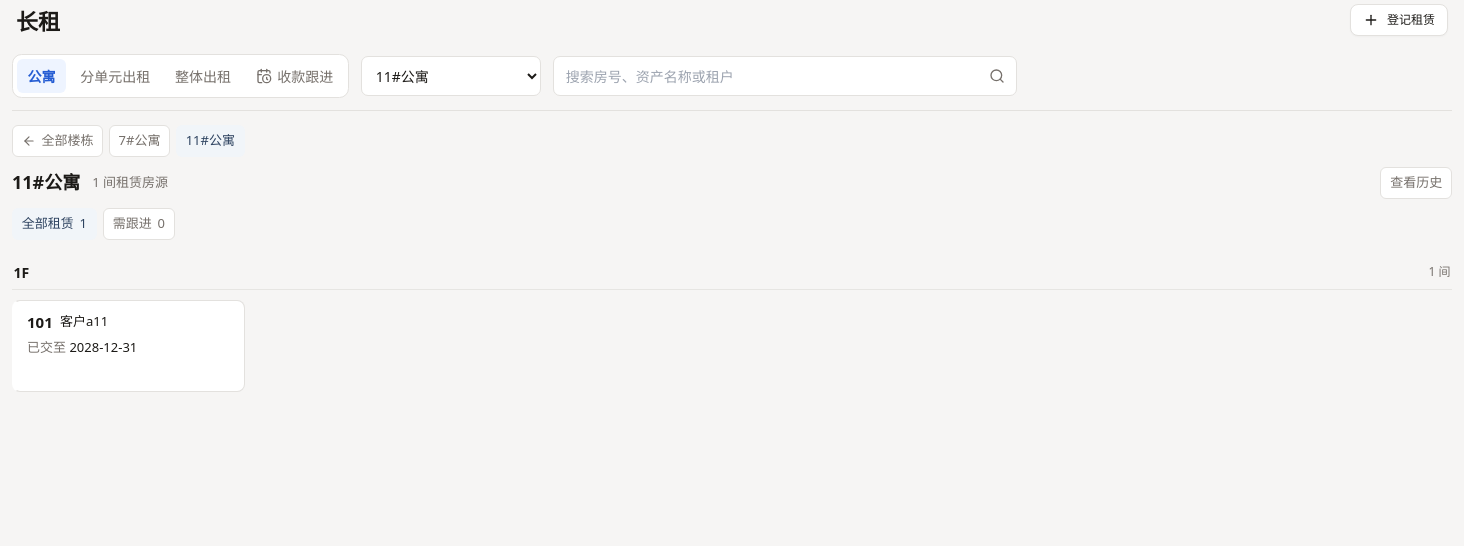
combines apartment location with shared browsing and remembers the selected building
Expected: the dropdown named "选择项目或楼栋" shows "11#公寓", [361, 56, 541, 96]
Expected: the number of search fields is 1, [554, 57, 978, 95]
Click the button "全部楼栋". click: (58, 141)
box: [12, 125, 103, 157]
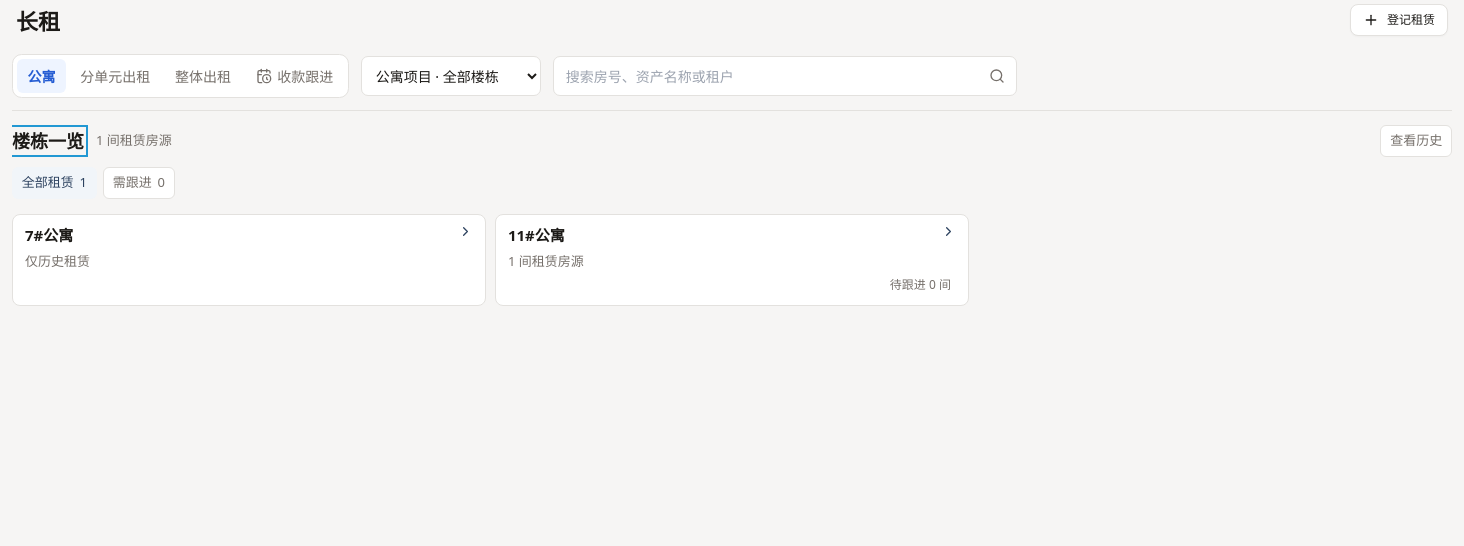
Result: the list named "长租楼栋" shows "11#公寓" at [495, 214, 969, 306]
Result: the list named "长租楼栋" shows "1 间租赁房源" at [495, 214, 969, 306]
Result: the button "7#公寓 仅历史租赁" is shown
Click the button "7#公寓 仅历史租赁". click: (49, 235)
box: [12, 214, 486, 306]
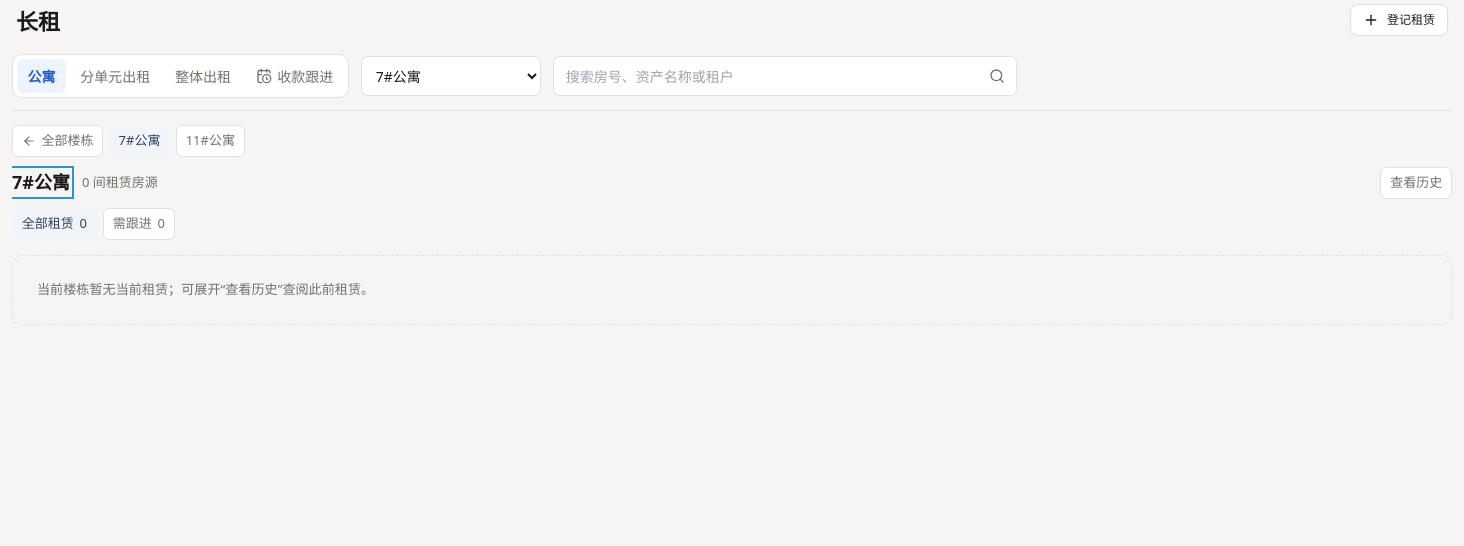
Click the button "查看历史". click: (1416, 183)
box: [1380, 167, 1452, 199]
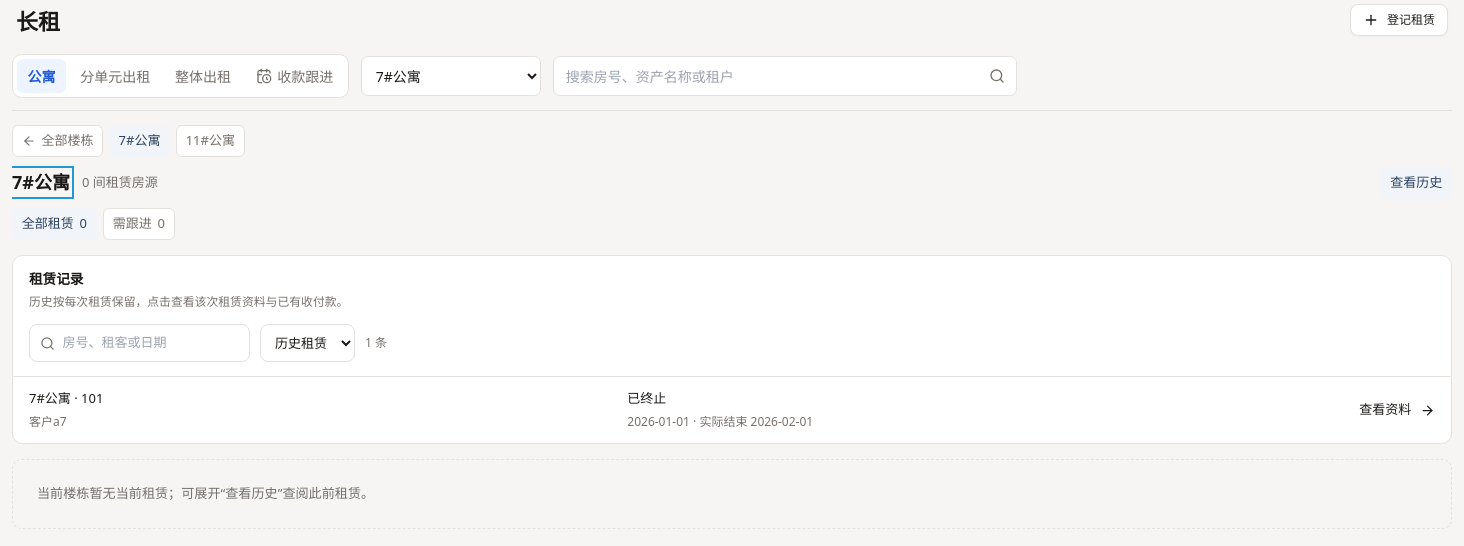
Result: the element named "租赁记录查询" shows "客户a7" at [13, 377, 1451, 443]
Click the button "全部楼栋". click: (58, 141)
box: [12, 125, 103, 157]
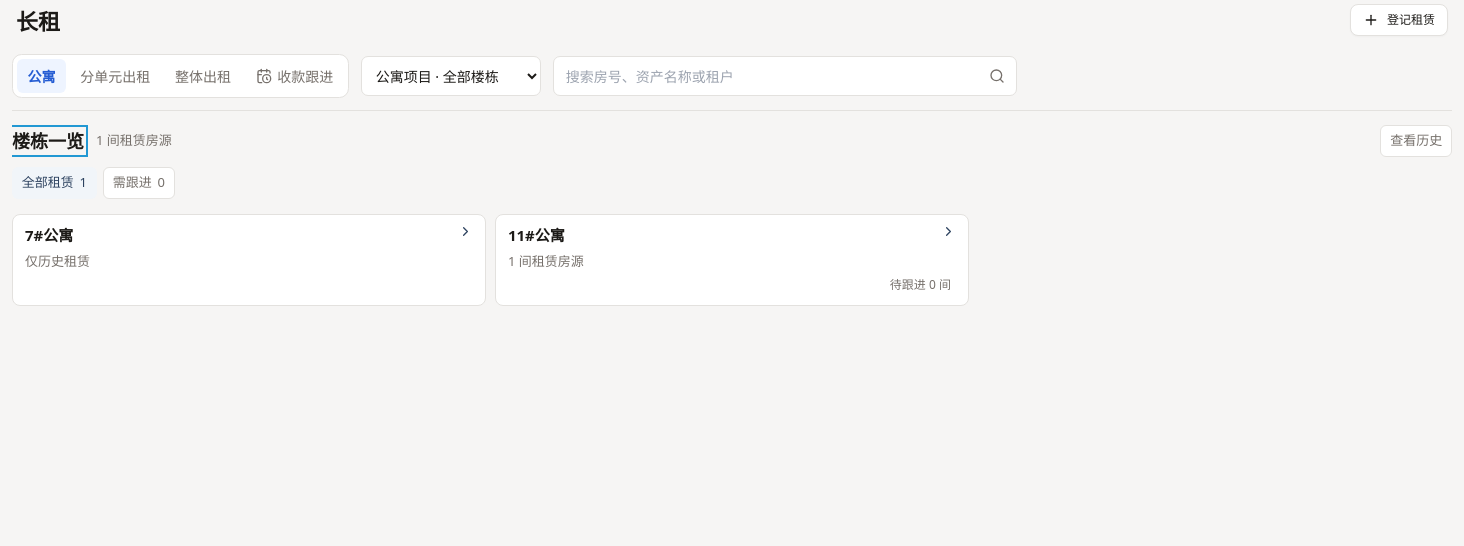
Click the button "11#公寓 1 间租赁房源 待跟进 0 间". click: (536, 235)
box: [495, 214, 969, 306]
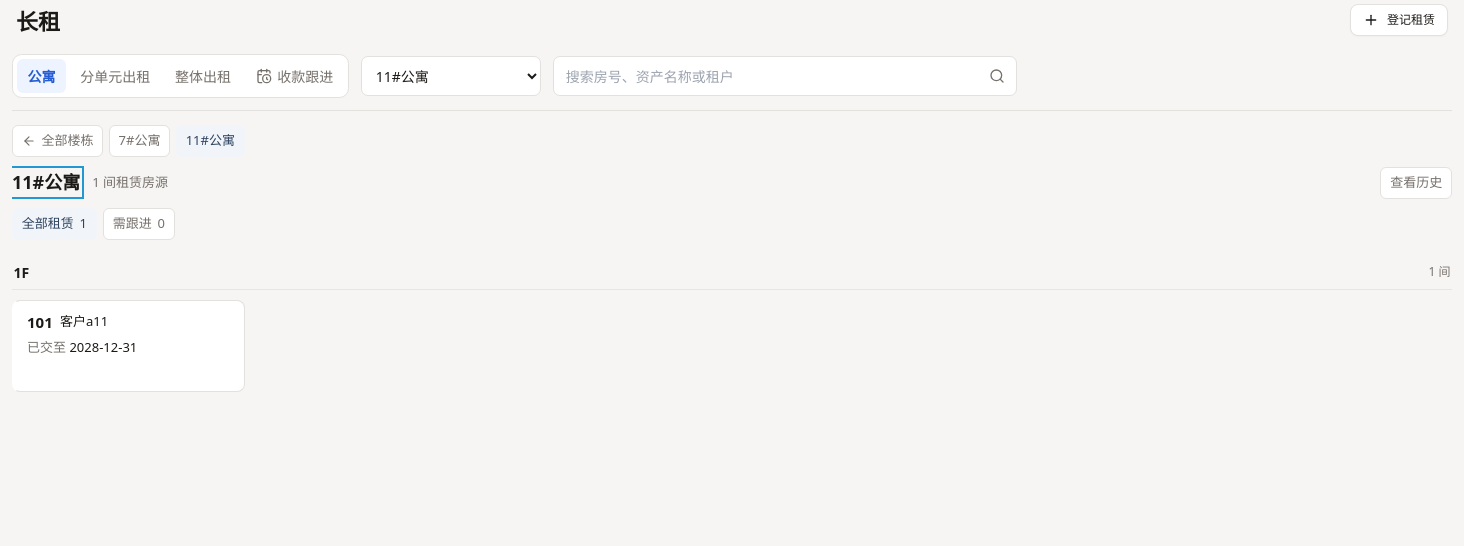
Result: the button "101 客户a11 已交至 2028-12-31" is shown at [12, 300, 245, 392]
Result: the heading "11#公寓" is shown at [12, 170, 80, 195]
Select "第二栋" in the dropdown named "选择项目或楼栋". click: (451, 76)
box: [361, 56, 541, 96]
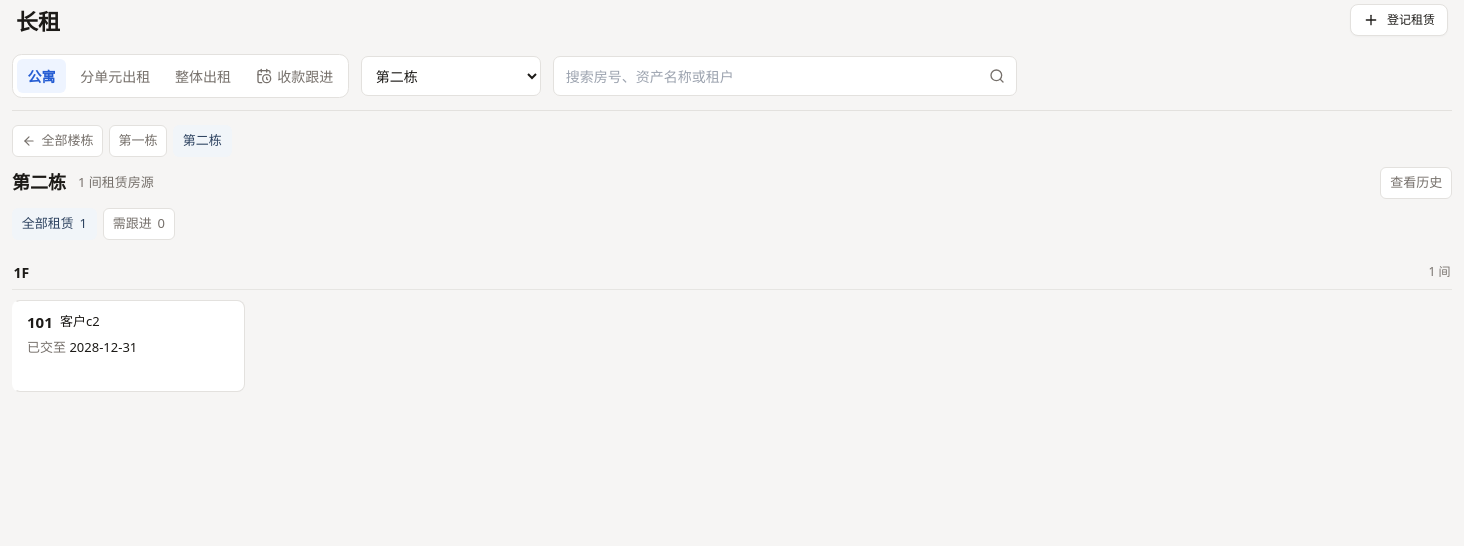
Result: the text "客户c2" is shown at [60, 312, 100, 330]
Result: the dropdown named "选择项目或楼栋" shows "第二栋" at [361, 56, 541, 96]
